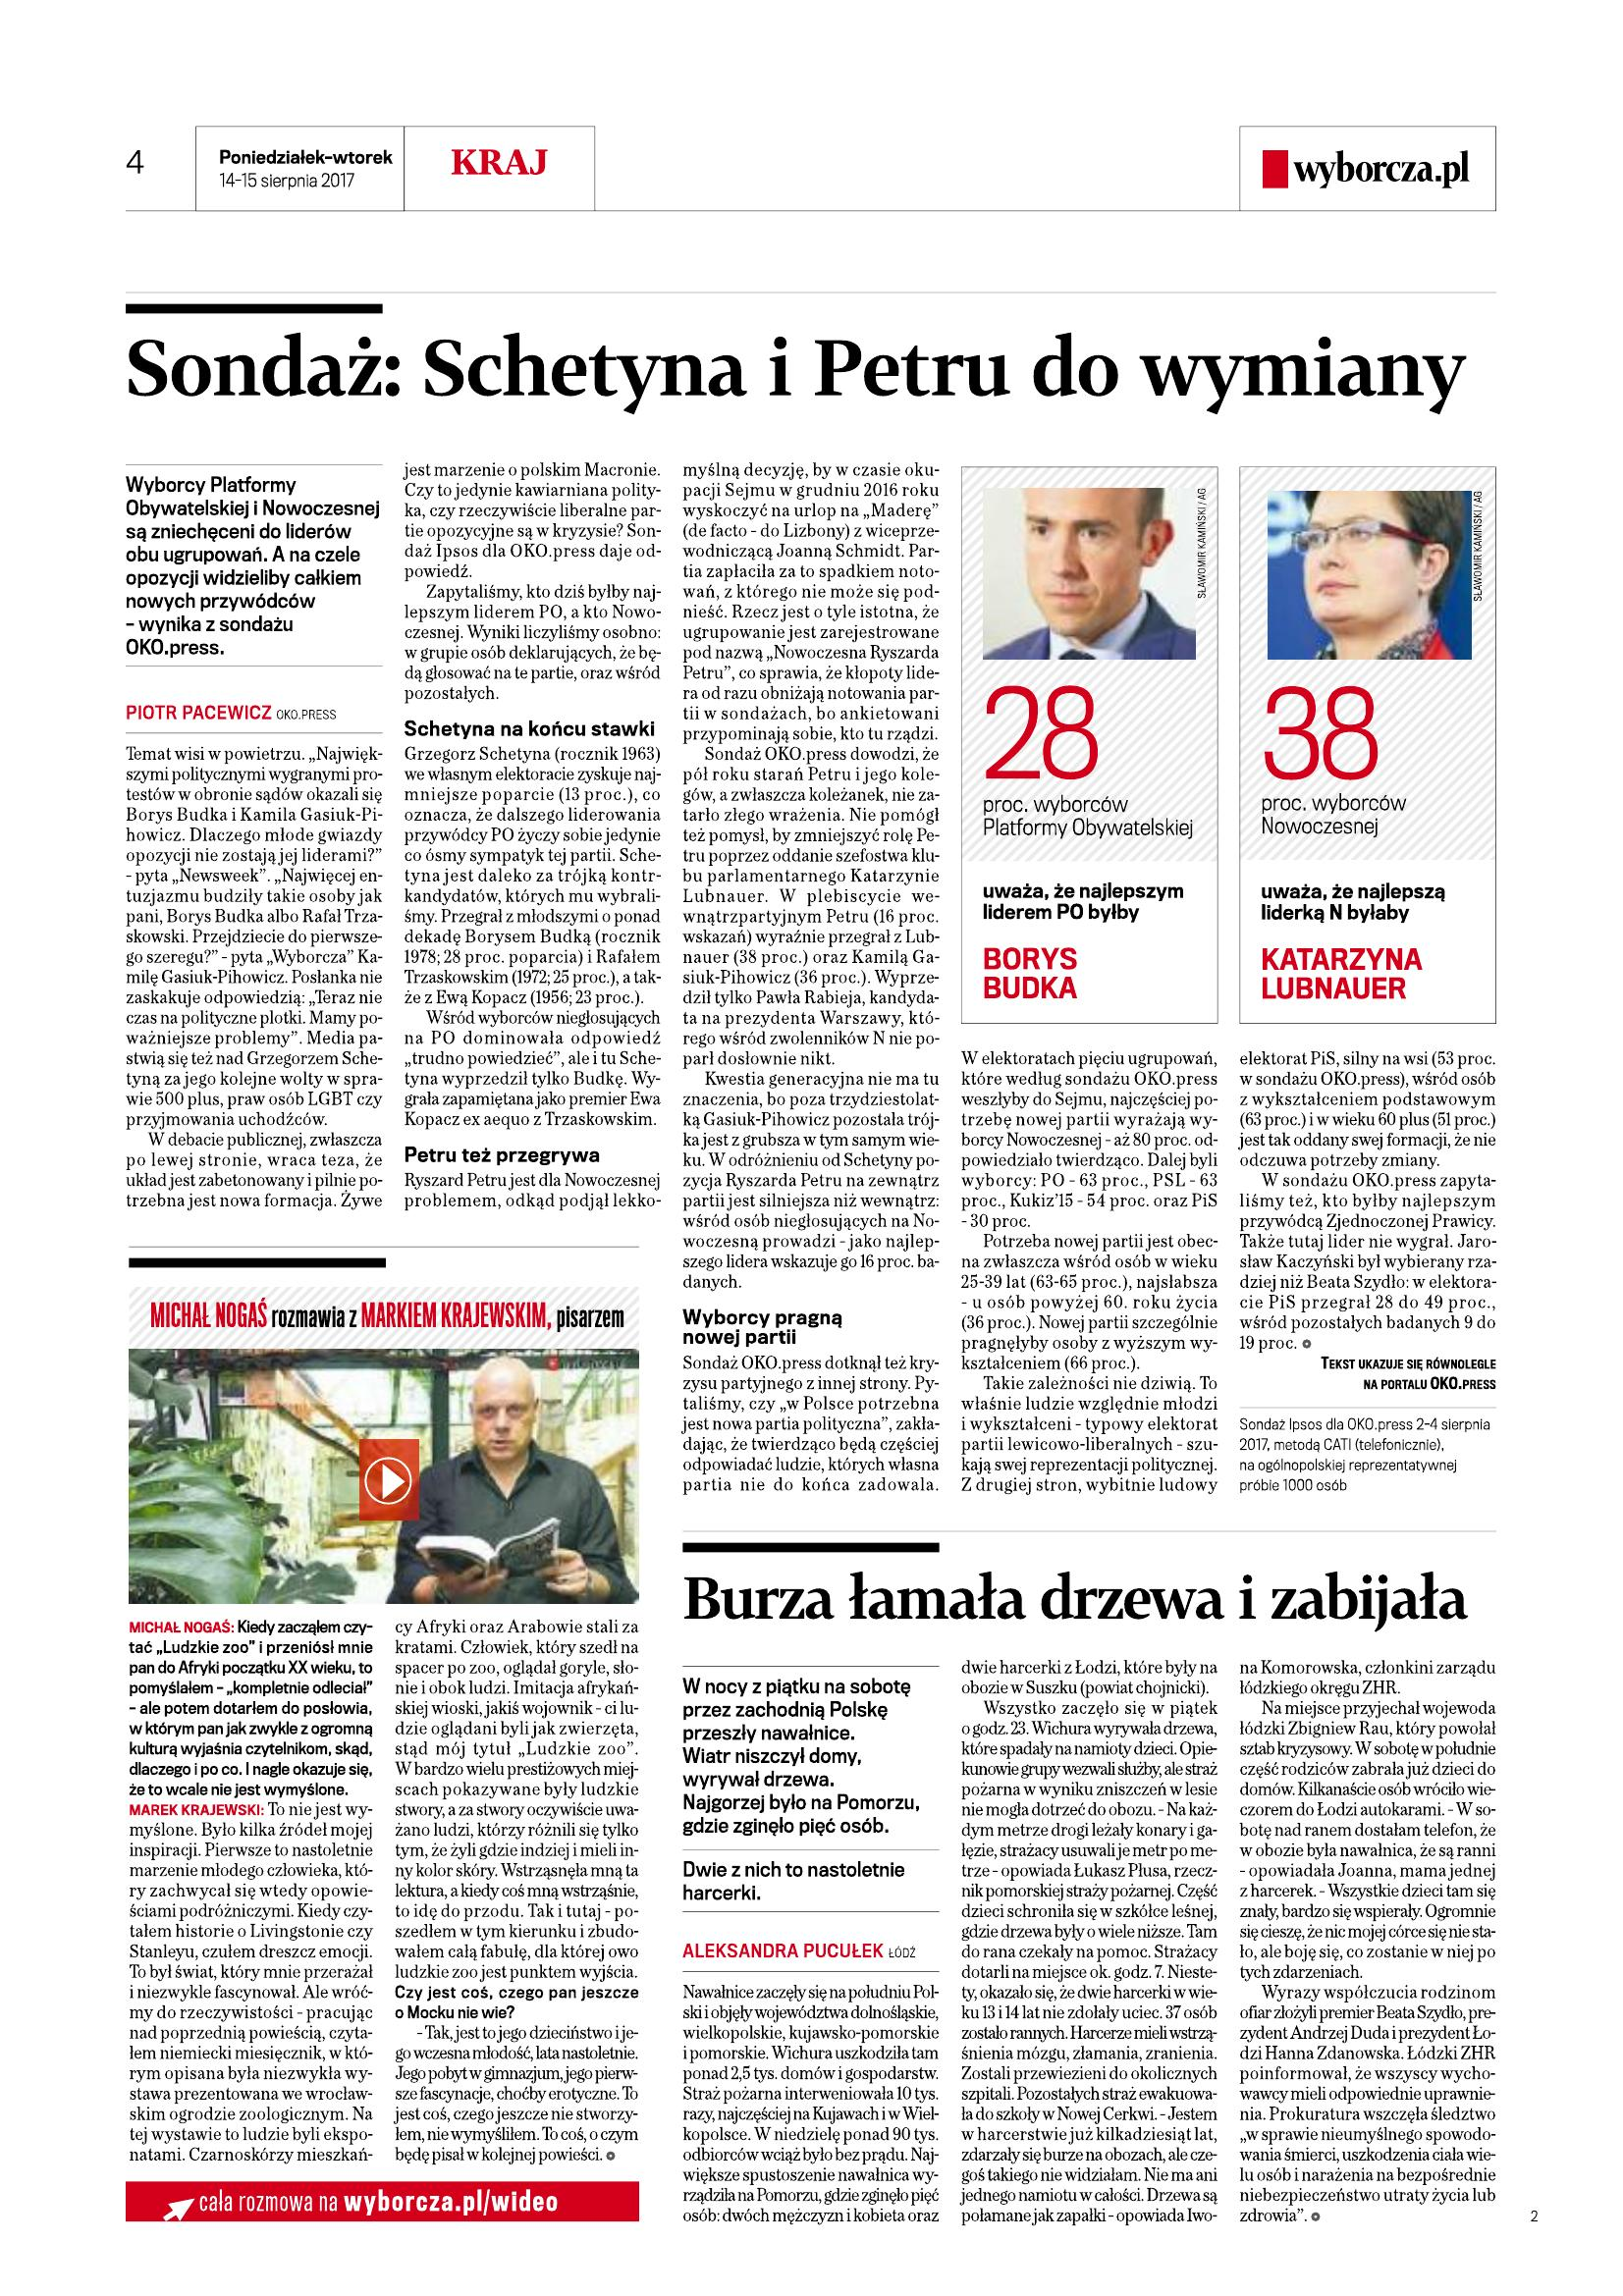article: (118, 295, 1511, 1510), (678, 1532, 1516, 2242), (119, 1257, 652, 2175)
